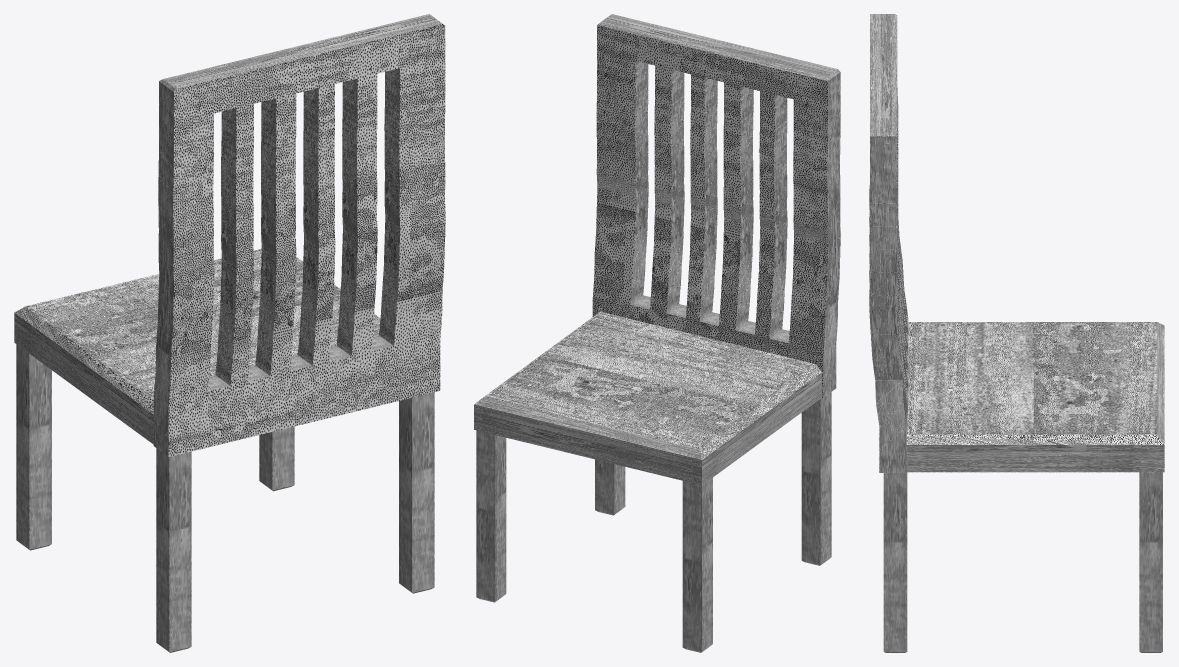
The model's file is Chair.fbx.
The picture shows the model from 3 angles, left to right: view 1: azimuth 30°, elevation 25°; view 2: azimuth 150°, elevation 25°; view 3: azimuth 270°, elevation 25°; orthographic projection. The views are drawn at different scales.
Parts seen in each view (by area): view 1: pCube13, pCube1, pCube2, pCube3, pCube5, pCube4; view 2: pCube13, pCube1, pCube5, pCube4, pCube2, pCube3; view 3: pCube1, pCube13, pCube3, pCube4.
Part boxes in pixels (left/top/right/bottom): pCube13: left=153, top=14, right=445, bottom=456; pCube1: left=14, top=249, right=380, bottom=444; pCube2: left=156, top=448, right=191, bottom=652; pCube3: left=399, top=392, right=434, bottom=593; pCube5: left=16, top=344, right=51, bottom=550; pCube4: left=259, top=426, right=294, bottom=491; pCube13: left=592, top=14, right=840, bottom=397; pCube1: left=474, top=311, right=821, bottom=485; pCube5: left=682, top=478, right=712, bottom=652; pCube4: left=476, top=430, right=506, bottom=602; pCube2: left=801, top=392, right=831, bottom=565; pCube3: left=595, top=459, right=625, bottom=515; pCube1: left=906, top=322, right=1164, bottom=472; pCube13: left=869, top=14, right=908, bottom=472; pCube3: left=883, top=472, right=907, bottom=652; pCube4: left=1139, top=472, right=1162, bottom=652.
Bounding box in the file's own units: 5.42 × 10.89 × 5.59.
